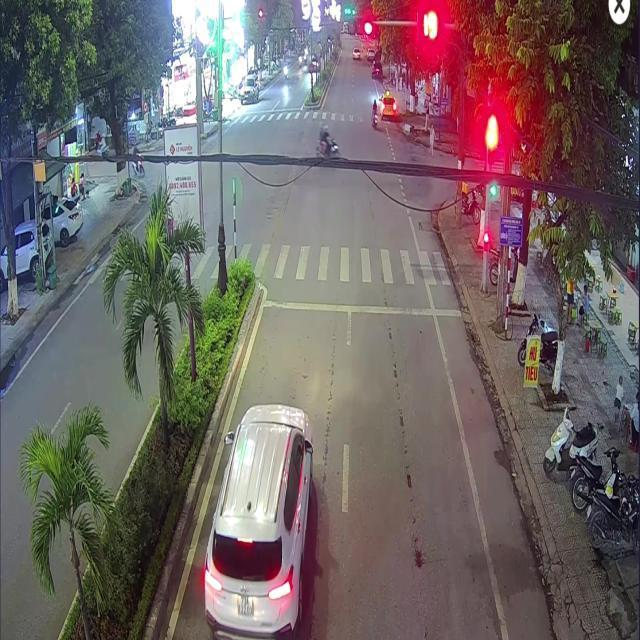car: (196, 405, 320, 639)
red_light: (484, 110, 498, 172), (345, 13, 372, 38)
stop_line: (262, 299, 460, 316)
